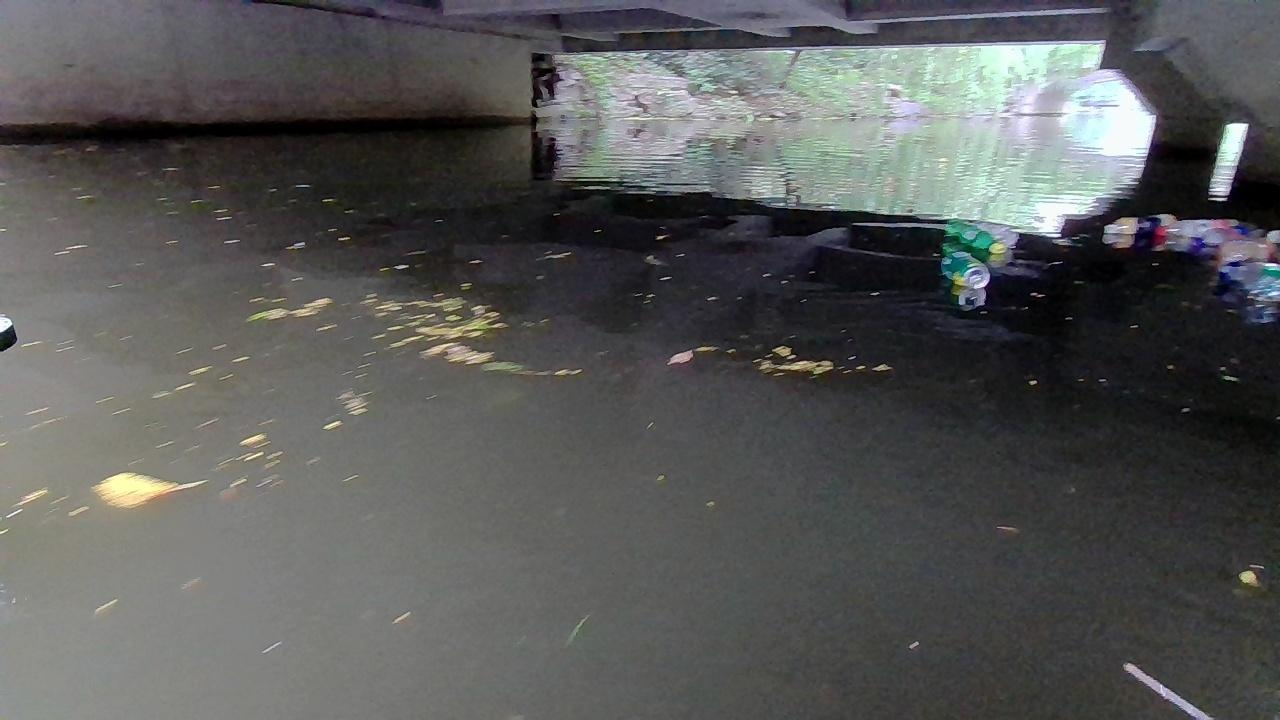bottle: (1157, 218, 1244, 245), (1103, 209, 1176, 240), (1190, 226, 1263, 254), (1204, 239, 1279, 266), (945, 220, 1004, 253), (939, 248, 991, 284), (1219, 261, 1279, 282), (1244, 282, 1279, 299)
